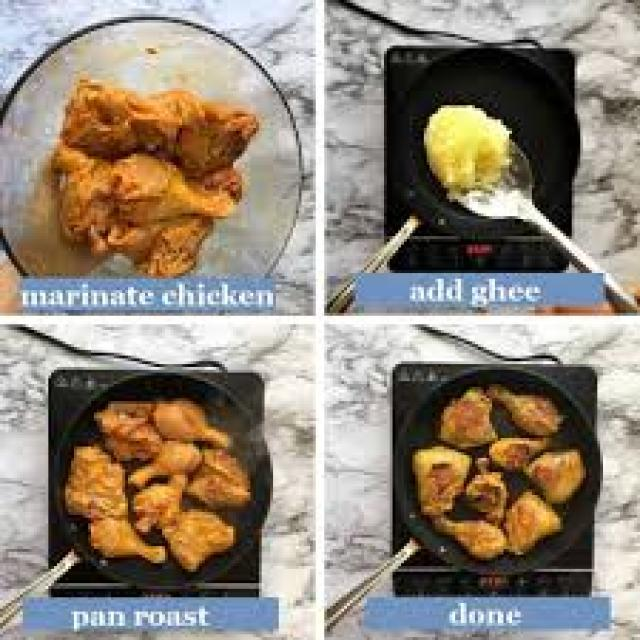Frango: (57, 401, 279, 580), (46, 80, 253, 262), (398, 390, 589, 563)
